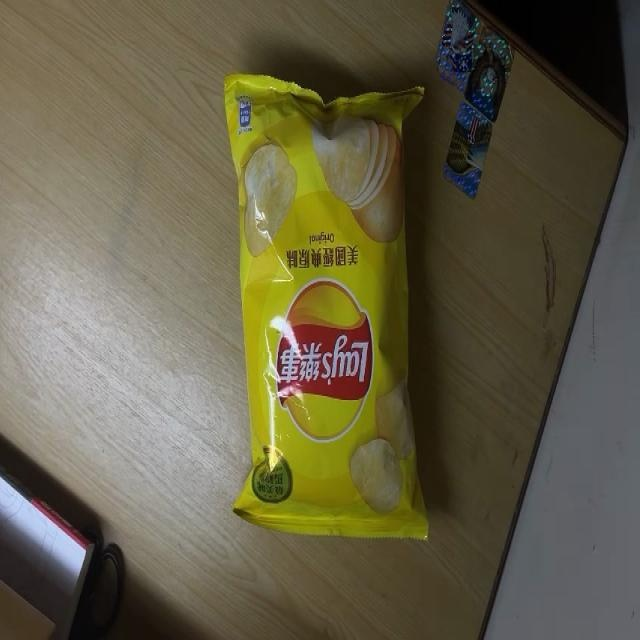Lay-s-original: (222, 73, 428, 544)
